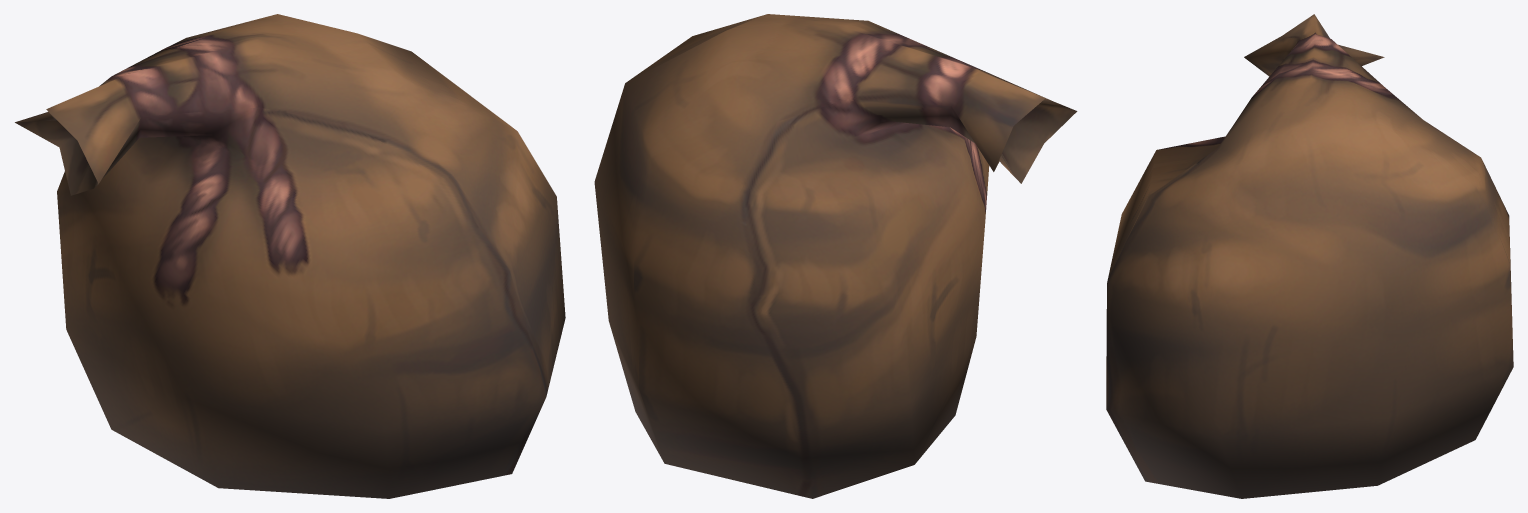
The model's file is sack_of_flour_medium.fbx.
The picture shows the model from 3 angles, left to right: view 1: azimuth 30°, elevation 25°; view 2: azimuth 150°, elevation 25°; view 3: azimuth 270°, elevation 25°; orthographic projection. The views are drawn at different scales.
Parts seen in each view (by area): view 1: sack_of_flour_medium; view 2: sack_of_flour_medium; view 3: sack_of_flour_medium.
Part boxes in pixels (x1=…): sack_of_flour_medium: x1=15, y1=14, x2=565, y2=498; sack_of_flour_medium: x1=594, y1=14, x2=1077, y2=498; sack_of_flour_medium: x1=1106, y1=14, x2=1513, y2=498.
Size of the model in its own units: 72.03 by 61.77 by 65.55.
